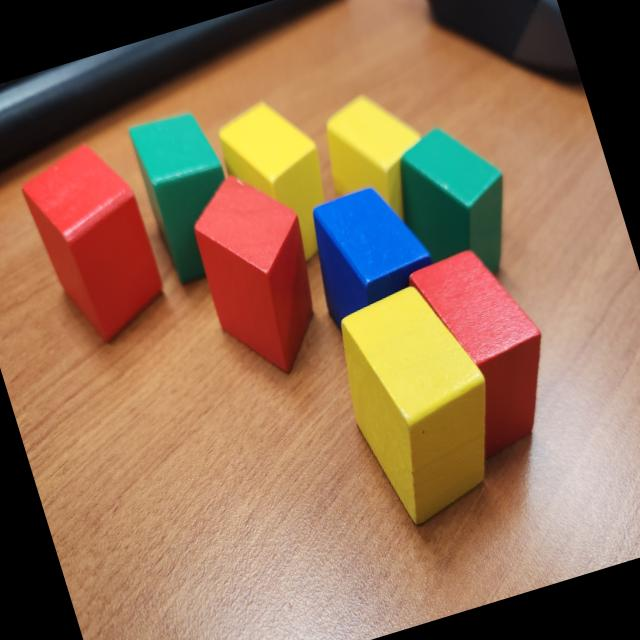blue: (312, 186, 433, 337)
green: (129, 112, 225, 277), (400, 127, 502, 275)
red: (14, 129, 178, 356), (410, 250, 541, 460), (196, 175, 314, 373)
yellow: (342, 284, 484, 522), (221, 101, 324, 262), (326, 94, 422, 220)
